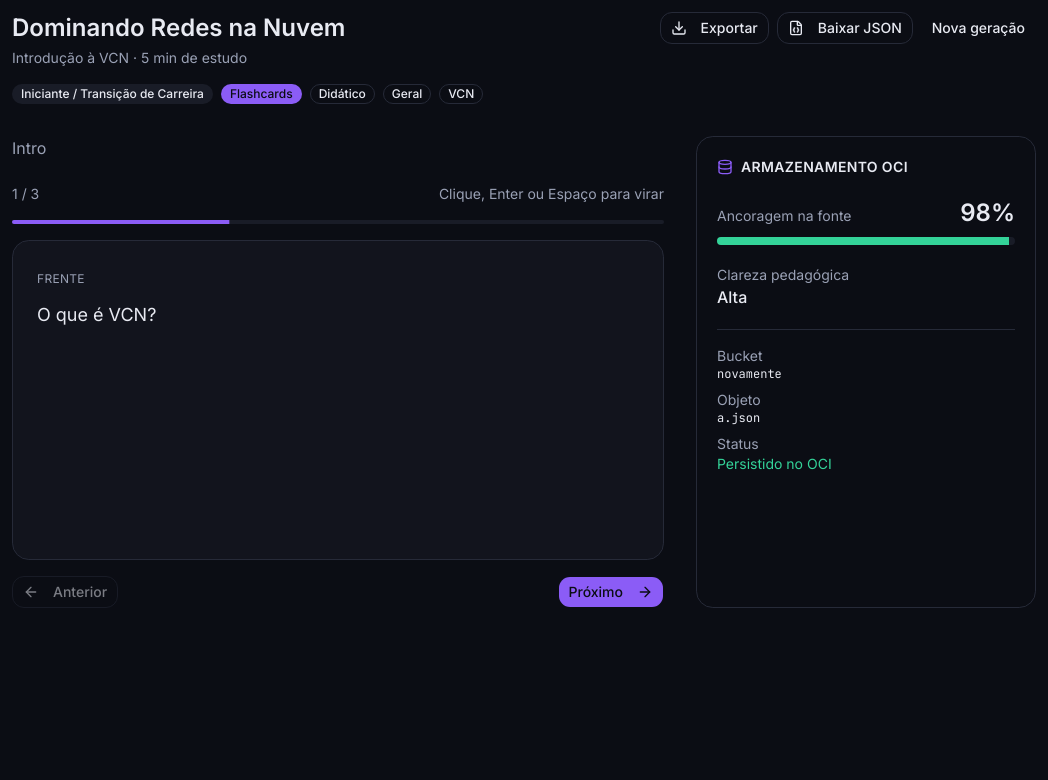
Test: ResultadoView › mostra erro quando o download JSON falha
Expected: the heading "Dominando Redes na Nuvem" is shown, [12,12,345,44]
What coordinates should you click on to do the following:
click the button "Baixar JSON"
I would click on:
 (845, 28)
Its box is [777,12,913,44].
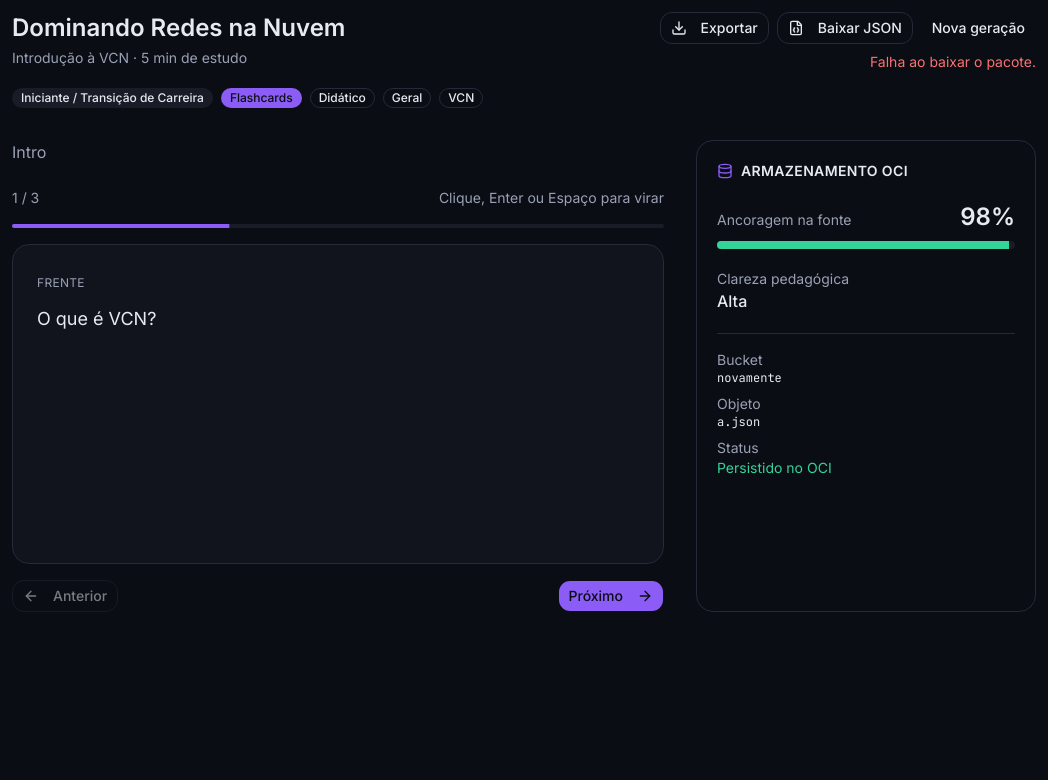
Result: the message reads "Falha ao baixar o pacote." at [870,53,1036,70]
